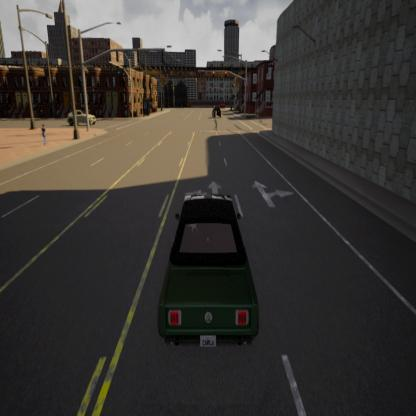Cars: (166, 191, 259, 347), (64, 102, 98, 128), (212, 100, 223, 118)
Pedestrian: (40, 119, 48, 148), (214, 104, 221, 135)
